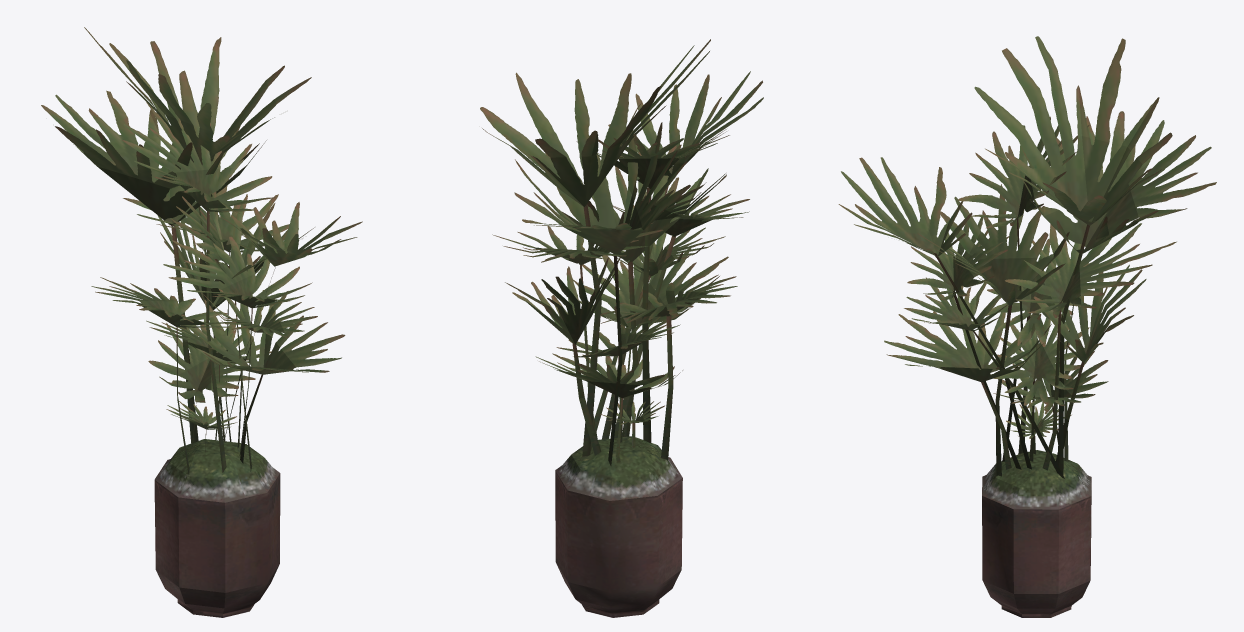
Rendered from bg_lut_lucastle_flowerpot01_sm_artree.FBX.
3 views of the same model, side by side, from view 1: azimuth 30°, elevation 25°; view 2: azimuth 150°, elevation 25°; view 3: azimuth 270°, elevation 25° (orthographic). The views are drawn at different scales.
Parts seen in each view (by area): view 1: bg_lut_lucastle_flowerpot01_sm_artree; view 2: bg_lut_lucastle_flowerpot01_sm_artree; view 3: bg_lut_lucastle_flowerpot01_sm_artree.
Boxes of the visible parts, left/top/right/bottom form: bg_lut_lucastle_flowerpot01_sm_artree: left=41, top=27, right=362, bottom=617; bg_lut_lucastle_flowerpot01_sm_artree: left=480, top=39, right=763, bottom=617; bg_lut_lucastle_flowerpot01_sm_artree: left=838, top=36, right=1216, bottom=617.
Bounding box in the file's own units: 162 × 303 × 215.
